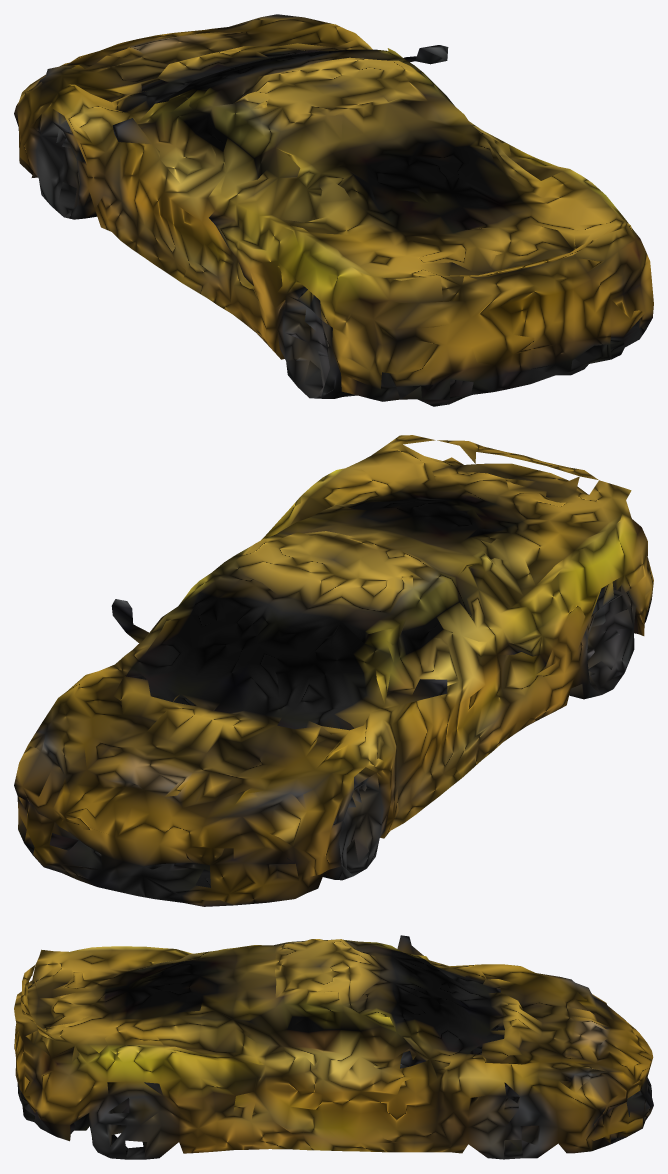
Rendered from car_yellow.1.glb.
3 views of the same model, one above another, from view 1: azimuth 30°, elevation 25°; view 2: azimuth 150°, elevation 25°; view 3: azimuth 270°, elevation 25° (orthographic). The views are drawn at different scales.
Visible parts, largest first — view 1: lod; view 2: lod; view 3: lod.
Boxes of the visible parts, x1,y1,x2,y2 form: lod: [14, 14, 653, 406]; lod: [14, 435, 653, 906]; lod: [14, 935, 653, 1159].
Bounding box in the file's own units: 0.4528 × 0.2447 × 0.9862.
